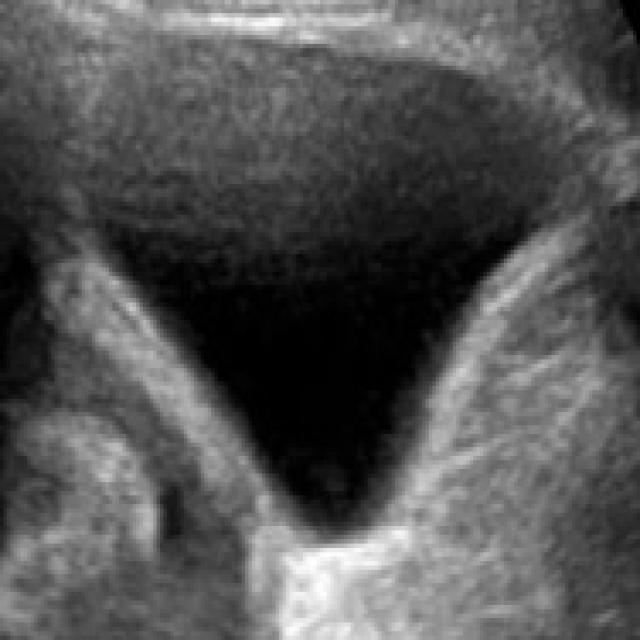bladder: (55, 32, 604, 620)
